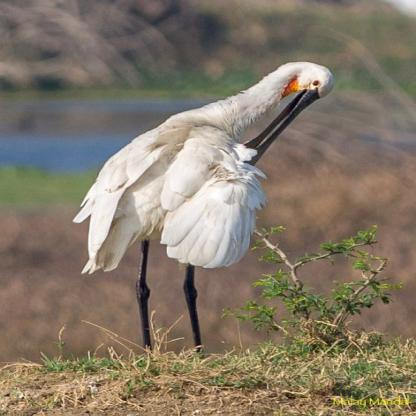Burung: (82, 61, 332, 363)
